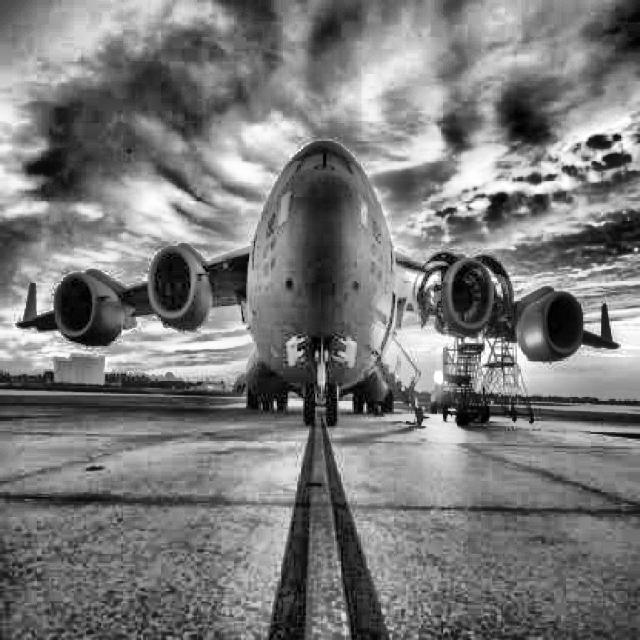C17: (16, 139, 619, 427)
